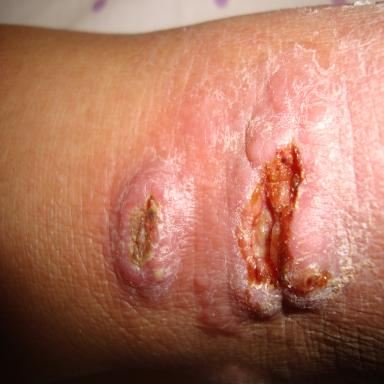Leishmanios: (199, 47, 365, 332), (110, 161, 195, 299)
